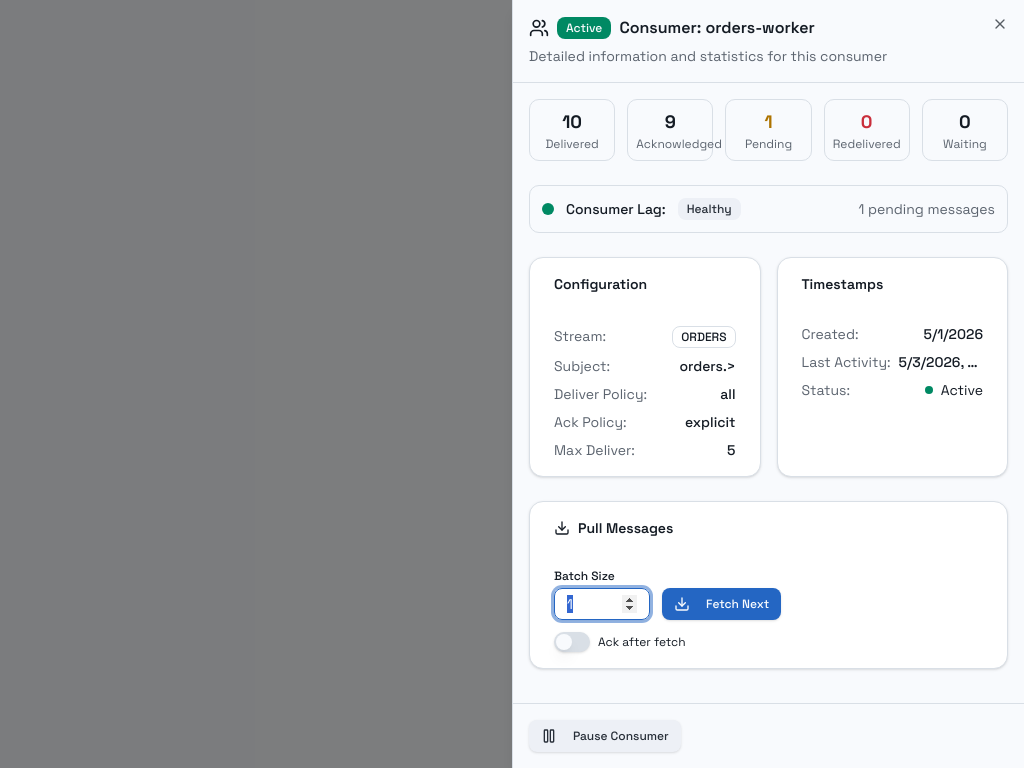
Test: ConsumerDetail pulled messages › warns before acking that messages will be consumed
Expected: the text "permanently removed" is not shown
Step 1. Click the switch named "ack after fetch" → (572, 642), box [554,632,590,652]
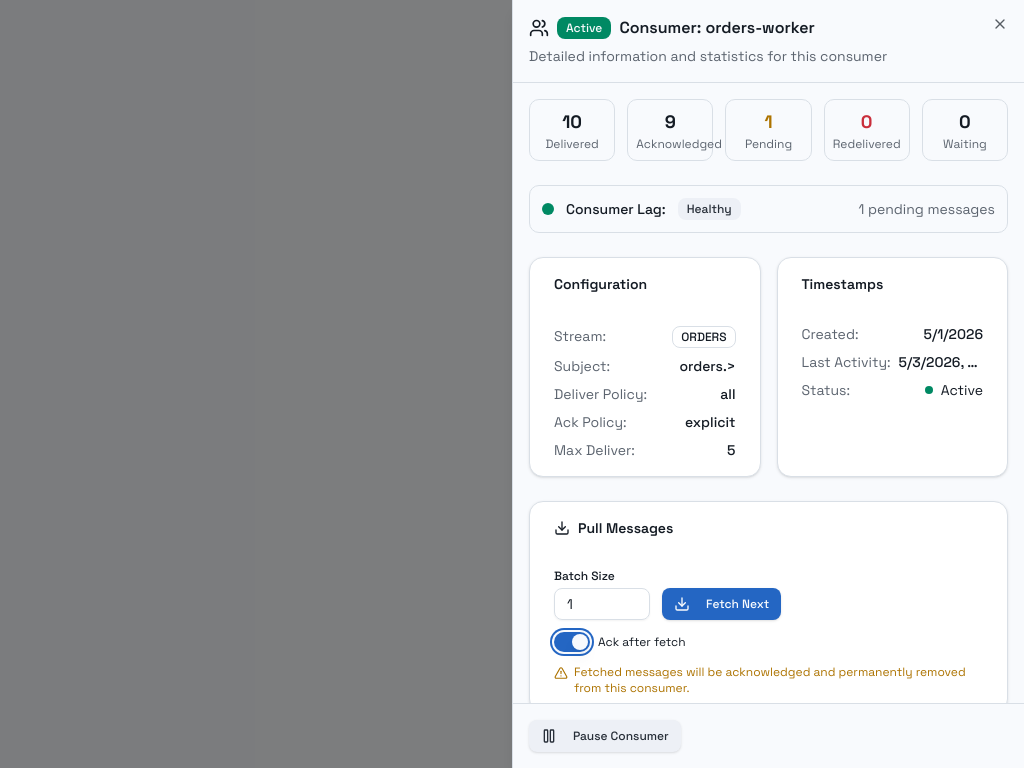
Result: the text "permanently removed" is shown at [574,664,966,696]
